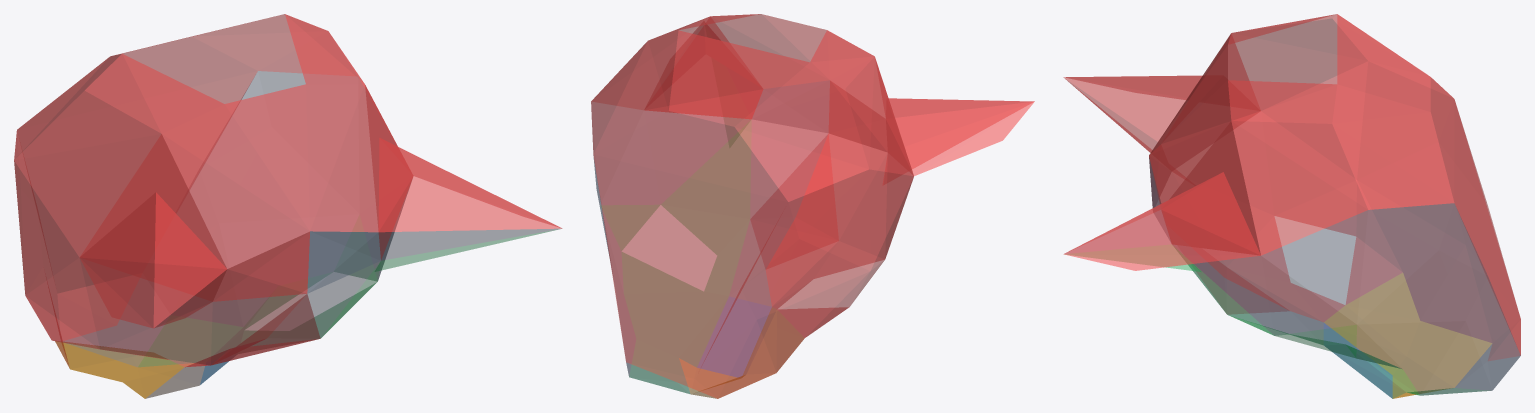
The model's file is candidate-panels-3d.obj.
3 views of the same model, side by side, from view 1: azimuth 30°, elevation 25°; view 2: azimuth 150°, elevation 25°; view 3: azimuth 270°, elevation 25° (orthographic). The views are drawn at different scales.
Visible parts, largest first — view 1: panel_MANQ008_P057_P031_P005_P035, panel_QUAD017_P020_P021_P032_P030, panel_QUAD032_P050_P052_P064_P062, panel_TRI012_P007_P028_P069, panel_MANQ007_P072_P060_P057_P031, panel_QUAD033_P052_P053_P054_P064, panel_TRI034_P024_P054_P064, panel_QUAD025_P037_P051_P052_P066, panel_TRI036_P024_P065_P068, panel_TRI055_P045_P052_P053, panel_TRI035_P024_P064_P065, panel_TRI033_P024_P028_P067 (+55 smaller); view 2: panel_MANQ008_P057_P031_P005_P035, panel_MANQ006_P070_P063_P060_P072, panel_MANQ007_P072_P060_P057_P031, panel_QUAD031_P049_P050_P058_P056, panel_QUAD025_P037_P051_P052_P066, panel_QUAD019_P026_P027_P028_P067, panel_TRI059_P050_P060_P062, panel_TRI027_P016_P026_P027, panel_TRI016_P009_P016_P027, panel_QUAD032_P050_P052_P064_P062, panel_TRI058_P050_P057_P060, panel_QUAD018_P021_P026_P067_P071 (+59 smaller); view 3: panel_QUAD018_P021_P026_P067_P071, panel_QUAD008_P007_P025_P026_P069, panel_QUAD031_P049_P050_P058_P056, panel_QUAD017_P020_P021_P032_P030, panel_QUAD032_P050_P052_P064_P062, panel_TRI056_P049_P050_P052, panel_TRI028_P020_P021_P026, panel_QUAD033_P052_P053_P054_P064, panel_MANQ006_P070_P063_P060_P072, panel_QUAD027_P041_P042_P056_P043, panel_QUAD028_P043_P046_P049_P056, panel_MANQ008_P057_P031_P005_P035 (+58 smaller).
Boxes of the visible parts, x1,y1,x2,y2 form: panel_MANQ008_P057_P031_P005_P035: (17, 71, 257, 292); panel_QUAD017_P020_P021_P032_P030: (220, 77, 358, 222); panel_QUAD032_P050_P052_P064_P062: (14, 91, 160, 256); panel_TRI012_P007_P028_P069: (378, 138, 561, 232); panel_MANQ007_P072_P060_P057_P031: (19, 37, 256, 128); panel_QUAD033_P052_P053_P054_P064: (80, 134, 226, 301); panel_TRI034_P024_P054_P064: (162, 134, 309, 268); panel_QUAD025_P037_P051_P052_P066: (80, 192, 155, 328); panel_TRI036_P024_P065_P068: (225, 84, 309, 230); panel_TRI055_P045_P052_P053: (80, 258, 210, 348); panel_TRI035_P024_P064_P065: (162, 104, 309, 230); panel_TRI033_P024_P028_P067: (310, 85, 378, 232); panel_MANQ008_P057_P031_P005_P035: (593, 155, 787, 378); panel_MANQ006_P070_P063_P060_P072: (669, 30, 809, 126); panel_MANQ007_P072_P060_P057_P031: (594, 111, 787, 201); panel_QUAD031_P049_P050_P058_P056: (757, 170, 870, 319); panel_QUAD025_P037_P051_P052_P066: (889, 98, 1034, 175); panel_QUAD019_P026_P027_P028_P067: (645, 17, 762, 118); panel_TRI059_P050_P060_P062: (735, 89, 868, 168); panel_TRI027_P016_P026_P027: (644, 111, 749, 203); panel_TRI016_P009_P016_P027: (661, 121, 750, 218); panel_QUAD032_P050_P052_P064_P062: (845, 56, 913, 176); panel_TRI058_P050_P057_P060: (735, 127, 868, 201); panel_QUAD018_P021_P026_P067_P071: (592, 17, 708, 109); panel_QUAD018_P021_P026_P067_P071: (1231, 121, 1367, 255); panel_QUAD008_P007_P025_P026_P069: (1064, 172, 1260, 270); panel_QUAD031_P049_P050_P058_P056: (1357, 62, 1465, 244); panel_QUAD017_P020_P021_P032_P030: (1357, 210, 1465, 324); panel_QUAD032_P050_P052_P064_P062: (1232, 18, 1367, 110); panel_TRI056_P049_P050_P052: (1262, 62, 1367, 179); panel_TRI028_P020_P021_P026: (1261, 210, 1368, 323); panel_QUAD033_P052_P053_P054_P064: (1161, 34, 1259, 170); panel_MANQ006_P070_P063_P060_P072: (1337, 14, 1430, 111); panel_QUAD027_P041_P042_P056_P043: (1403, 245, 1491, 342); panel_QUAD028_P043_P046_P049_P056: (1356, 180, 1464, 271); panel_MANQ008_P057_P031_P005_P035: (1454, 99, 1520, 354).
Bounding box in the file's own units: 203 × 180 × 220.
